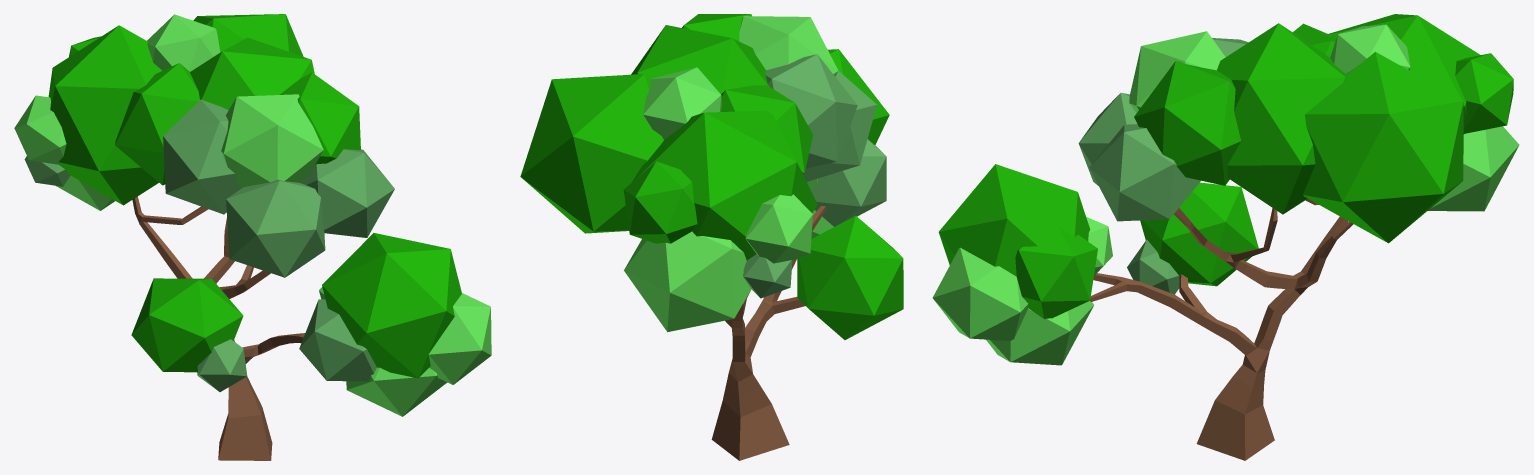
The picture shows the model from 3 angles, left to right: view 1: azimuth 30°, elevation 25°; view 2: azimuth 150°, elevation 25°; view 3: azimuth 270°, elevation 25°; orthographic projection. The views are drawn at different scales.
Parts seen in each view (by area): view 1: Icosphere.001, Icosphere.017, Icosphere.006, Icosphere.025, Icosphere.011, Cube, Icosphere.013, Icosphere.012, Icosphere.008, Icosphere.016, Icosphere.004, Icosphere (+8 smaller); view 2: Icosphere.015, Icosphere.017, Icosphere.025, Icosphere.024, Cube, Icosphere.013, Icosphere.012, Icosphere.018, Icosphere, Icosphere.011, Icosphere.023, Icosphere.021 (+5 smaller); view 3: Icosphere.015, Icosphere.012, Cube, Icosphere.001, Icosphere.010, Icosphere.025, Icosphere.008, Icosphere.004, Icosphere.002, Icosphere.017, Icosphere.024, Icosphere.005 (+7 smaller).
Part boxes in pixels (x1,y1,x2,y2): Icosphere.001: [322, 233, 461, 378]; Icosphere.017: [48, 25, 162, 205]; Icosphere.006: [226, 179, 325, 277]; Icosphere.025: [131, 278, 243, 372]; Icosphere.011: [221, 94, 323, 189]; Cube: [132, 196, 305, 460]; Icosphere.013: [163, 99, 239, 214]; Icosphere.012: [190, 37, 314, 109]; Icosphere.008: [302, 149, 394, 237]; Icosphere.016: [115, 63, 199, 185]; Icosphere.004: [428, 293, 491, 384]; Icosphere: [299, 299, 376, 381]; Icosphere.015: [520, 74, 663, 233]; Icosphere.017: [631, 110, 817, 260]; Icosphere.025: [797, 215, 903, 339]; Icosphere.024: [624, 231, 751, 332]; Cube: [711, 206, 826, 460]; Icosphere.013: [765, 54, 857, 168]; Icosphere.012: [631, 25, 768, 93]; Icosphere.018: [623, 161, 697, 243]; Icosphere: [811, 139, 886, 226]; Icosphere.011: [739, 16, 838, 76]; Icosphere.023: [643, 67, 722, 139]; Icosphere.021: [745, 194, 812, 263]; Icosphere.015: [1303, 51, 1463, 243]; Icosphere.012: [1217, 23, 1346, 214]; Cube: [1090, 198, 1353, 460]; Icosphere.001: [938, 164, 1090, 276]; Icosphere.010: [1134, 61, 1240, 185]; Icosphere.025: [1140, 182, 1258, 286]; Icosphere.008: [1089, 124, 1200, 221]; Icosphere.004: [932, 247, 1028, 340]; Icosphere.002: [1015, 226, 1097, 319]; Icosphere.017: [1327, 14, 1480, 134]; Icosphere.024: [1428, 126, 1519, 211]; Icosphere.005: [986, 301, 1093, 365].
Size of the model in its own units: 684 by 962 by 1220.
